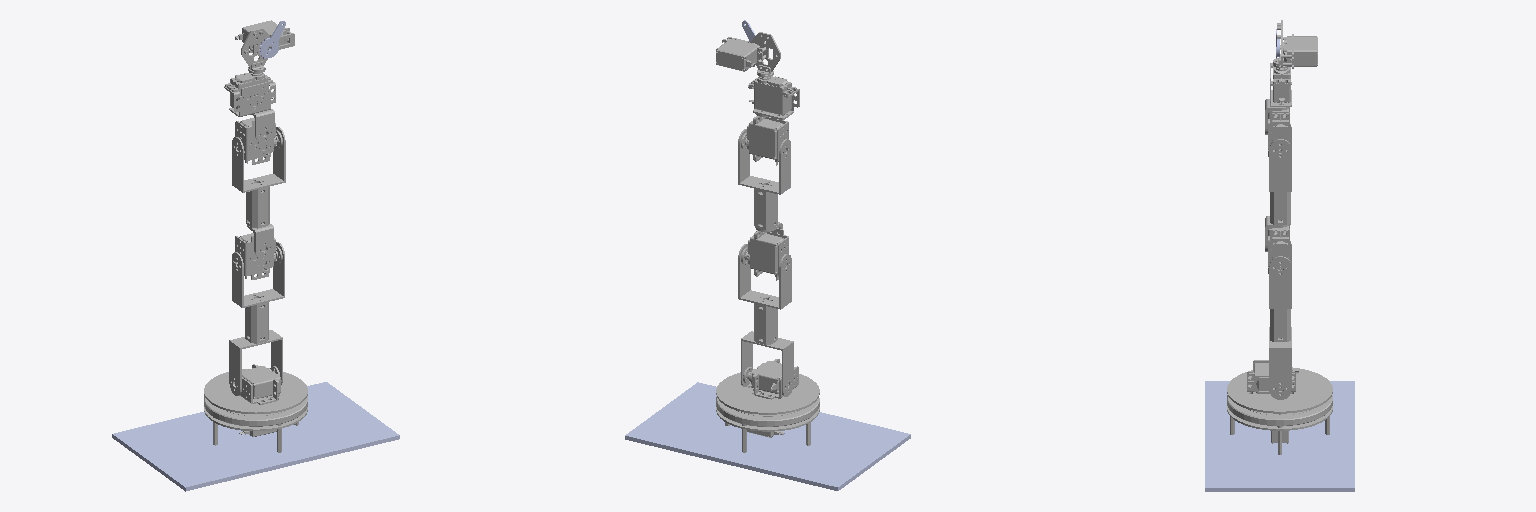
robot.urdf — Manipulator_tf:
<?xml version="1.0" encoding="utf-8"?>
<!-- This URDF was automatically created by SolidWorks to URDF Exporter! Originally created by [author] ([email redacted]) 
     Commit Version: 1.6.0-4-g7f85cfe  Build Version: 1.6.7995.38578
     For more information, please see http://wiki.ros.org/sw_urdf_exporter -->
<robot
  name="Manipulator_tf">
  <link
    name="base_link">
    <inertial>
      <origin
        xyz="-4.9546E-15 -0.0025 1.1984E-14"
        rpy="0 0 0" />
      <mass
        value="0.24083" />
      <inertia
        ixx="0.00057369"
        ixy="3.2157E-15"
        ixz="-1.0718E-15"
        iyy="0.0022033"
        iyz="-2.7475E-15"
        izz="0.0016306" />
    </inertial>
    <visual>
      <origin
        xyz="0 0 0"
        rpy="0 0 0" />
      <geometry>
        <mesh
          filename="package://Manipulator_tf/meshes/base_link.STL" />
      </geometry>
      <material
        name="">
        <color
          rgba="0.79216 0.81961 0.93333 1" />
      </material>
    </visual>
    <collision>
      <origin
        xyz="0 0 0"
        rpy="0 0 0" />
      <geometry>
        <mesh
          filename="package://Manipulator_tf/meshes/base_link.STL" />
      </geometry>
    </collision>
  </link>
  <link
    name="arm_base_link">
    <inertial>
      <origin
        xyz="0.127882844326927 0.21516198683833 0.243466478777363"
        rpy="0 0 0" />
      <mass
        value="0.0888805032863536" />
      <inertia
        ixx="7.78274568162348E-05"
        ixy="-4.51119521708741E-08"
        ixz="9.02366661508644E-13"
        iyy="0.000152787665848685"
        iyz="-6.09842163953188E-13"
        izz="8.05930936282739E-05" />
    </inertial>
    <visual>
      <origin
        xyz="0 0 0"
        rpy="0 0 0" />
      <geometry>
        <mesh
          filename="package://Manipulator_tf/meshes/arm_base_link.STL" />
      </geometry>
      <material
        name="">
        <color
          rgba="0.752941176470588 0.752941176470588 0.752941176470588 1" />
      </material>
    </visual>
    <collision>
      <origin
        xyz="0 0 0"
        rpy="0 0 0" />
      <geometry>
        <mesh
          filename="package://Manipulator_tf/meshes/arm_base_link.STL" />
      </geometry>
    </collision>
  </link>
  <joint
    name="arm_base_joint"
    type="fixed">
    <origin
      xyz="-0.12473 0.24347 -0.18335"
      rpy="1.5708 0 0" />
    <parent
      link="base_link" />
    <child
      link="arm_base_link" />
    <axis
      xyz="0 0 0" />
  </joint>
  <link
    name="arm_1_link">
    <inertial>
      <origin
        xyz="-0.00304007438045744 0.0196164335050423 -0.00291517432990257"
        rpy="0 0 0" />
      <mass
        value="0.102309676287535" />
      <inertia
        ixx="5.85277337608598E-05"
        ixy="-1.83034149134299E-07"
        ixz="-5.85534183280057E-07"
        iyy="0.000109918724976136"
        iyz="3.63049047266557E-07"
        izz="5.95682017970673E-05" />
    </inertial>
    <visual>
      <origin
        xyz="0 0 0"
        rpy="0 0 0" />
      <geometry>
        <mesh
          filename="package://Manipulator_tf/meshes/arm_1_link.STL" />
      </geometry>
      <material
        name="">
        <color
          rgba="0.752941176470588 0.752941176470588 0.752941176470588 1" />
      </material>
    </visual>
    <collision>
      <origin
        xyz="0 0 0"
        rpy="0 0 0" />
      <geometry>
        <mesh
          filename="package://Manipulator_tf/meshes/arm_1_link.STL" />
      </geometry>
    </collision>
  </link>
  <joint
    name="arm_1_joint"
    type="continuous">
    <origin
      xyz="0.12473 0.22085 0.24347"
      rpy="3.1416 1.1738 3.1416" />
    <parent
      link="arm_base_link" />
    <child
      link="arm_1_link" />
    <axis
      xyz="0 1 0" />
    <limit
      lower="-1.57"
      upper="1.57"
      effort="10"
      velocity="100" />
  </joint>
  <link
    name="arm_2_link">
    <inertial>
      <origin
        xyz="-0.00136241892661261 0.0759999999999952 0.00324974749212679"
        rpy="0 0 0" />
      <mass
        value="0.0731866074343535" />
      <inertia
        ixx="4.80073815600738E-05"
        ixy="-1.00851029729116E-08"
        ixz="8.91994561566128E-06"
        iyy="3.20760640864426E-05"
        iyz="2.40557713069729E-08"
        izz="3.04704178358834E-05" />
    </inertial>
    <visual>
      <origin
        xyz="0 0 0"
        rpy="0 0 0" />
      <geometry>
        <mesh
          filename="package://Manipulator_tf/meshes/arm_2_link.STL" />
      </geometry>
      <material
        name="">
        <color
          rgba="0.752941176470588 0.752941176470588 0.752941176470588 1" />
      </material>
    </visual>
    <collision>
      <origin
        xyz="0 0 0"
        rpy="0 0 0" />
      <geometry>
        <mesh
          filename="package://Manipulator_tf/meshes/arm_2_link.STL" />
      </geometry>
    </collision>
  </link>
  <joint
    name="arm_2_joint"
    type="continuous">
    <origin
      xyz="0.00057178 0.0325 0.00023971"
      rpy="0 0 0" />
    <parent
      link="arm_1_link" />
    <child
      link="arm_2_link" />
    <axis
      xyz="0.38664 0 -0.92223" />
    <limit
      lower="-1.57"
      upper="1.57"
      effort="10"
      velocity="100" />
  </joint>
  <link
    name="arm_3_link">
    <inertial>
      <origin
        xyz="-0.0025815322874481 0.0524015939543056 0.000939181171344017"
        rpy="0 0 0" />
      <mass
        value="0.103604281307373" />
      <inertia
        ixx="3.85881018738479E-05"
        ixy="-4.80398867358625E-07"
        ixz="5.05895931054358E-06"
        iyy="2.28862113904906E-05"
        iyz="-1.44453325725892E-07"
        izz="2.97794533690991E-05" />
    </inertial>
    <visual>
      <origin
        xyz="0 0 0"
        rpy="0 0 0" />
      <geometry>
        <mesh
          filename="package://Manipulator_tf/meshes/arm_3_link.STL" />
      </geometry>
      <material
        name="">
        <color
          rgba="0.752941176470588 0.752941176470588 0.752941176470588 1" />
      </material>
    </visual>
    <collision>
      <origin
        xyz="0 0 0"
        rpy="0 0 0" />
      <geometry>
        <mesh
          filename="package://Manipulator_tf/meshes/arm_3_link.STL" />
      </geometry>
    </collision>
  </link>
  <joint
    name="arm_3_joint"
    type="continuous">
    <origin
      xyz="0 0.152 0"
      rpy="0 0 0" />
    <parent
      link="arm_2_link" />
    <child
      link="arm_3_link" />
    <axis
      xyz="0.38664 0 -0.92223" />
    <limit
      lower="-1.57"
      upper="1.57"
      effort="10"
      velocity="100" />
  </joint>
  <link
    name="arm_4_link">
    <inertial>
      <origin
        xyz="-0.00101187414780247 0.0375011786310828 -0.00366708121412873"
        rpy="0 0 0" />
      <mass
        value="0.0995665365854079" />
      <inertia
        ixx="2.11129357002765E-05"
        ixy="-8.60510244360547E-08"
        ixz="2.61664416187348E-06"
        iyy="1.51148951315073E-05"
        iyz="-3.60758973291711E-08"
        izz="1.71059724068234E-05" />
    </inertial>
    <visual>
      <origin
        xyz="0 0 0"
        rpy="0 0 0" />
      <geometry>
        <mesh
          filename="package://Manipulator_tf/meshes/arm_4_link.STL" />
      </geometry>
      <material
        name="">
        <color
          rgba="0.752941176470588 0.752941176470588 0.752941176470588 1" />
      </material>
    </visual>
    <collision>
      <origin
        xyz="0 0 0"
        rpy="0 0 0" />
      <geometry>
        <mesh
          filename="package://Manipulator_tf/meshes/arm_4_link.STL" />
      </geometry>
    </collision>
  </link>
  <joint
    name="arm_4_joint"
    type="continuous">
    <origin
      xyz="0 0.1464 0"
      rpy="0 0 0" />
    <parent
      link="arm_3_link" />
    <child
      link="arm_4_link" />
    <axis
      xyz="0.38664 0 -0.92223" />
    <limit
      lower="-1.57"
      upper="1.57"
      effort="10"
      velocity="100" />
  </joint>
  <link
    name="arm_5_link">
    <inertial>
      <origin
        xyz="-0.00868940056135506 0.0276881873217658 -0.0253003257939571"
        rpy="0 0 0" />
      <mass
        value="0.0375612763479438" />
      <inertia
        ixx="6.51328878264193E-06"
        ixy="4.824257465463E-09"
        ixz="1.70111525571283E-06"
        iyy="6.43248404947121E-06"
        iyz="-9.59375877533994E-09"
        izz="2.9512265950098E-06" />
    </inertial>
    <visual>
      <origin
        xyz="0 0 0"
        rpy="0 0 0" />
      <geometry>
        <mesh
          filename="package://Manipulator_tf/meshes/arm_5_link.STL" />
      </geometry>
      <material
        name="">
        <color
          rgba="0.752941176470588 0.752941176470588 0.752941176470588 1" />
      </material>
    </visual>
    <collision>
      <origin
        xyz="0 0 0"
        rpy="0 0 0" />
      <geometry>
        <mesh
          filename="package://Manipulator_tf/meshes/arm_5_link.STL" />
      </geometry>
    </collision>
  </link>
  <joint
    name="arm_5_joint"
    type="continuous">
    <origin
      xyz="0.00056091 0.09115 0.0028104"
      rpy="3.1416 0 3.1416" />
    <parent
      link="arm_4_link" />
    <child
      link="arm_5_link" />
    <axis
      xyz="0 1 0" />
    <limit
      lower="-1.57"
      upper="1.57"
      effort="10"
      velocity="100" />
  </joint>
  <link
    name="gripper_1_link">
    <inertial>
      <origin
        xyz="0.000163480467086502 -0.00403983489131327 0.00336463442646602"
        rpy="0 0 0" />
      <mass
        value="0.00233893532260202" />
      <inertia
        ixx="2.44085104510321E-07"
        ixy="-4.91339632043238E-09"
        ixz="-5.73121224919762E-19"
        iyy="7.71995240694164E-08"
        iyz="2.04123577772977E-18"
        izz="3.18397565042681E-07" />
    </inertial>
    <visual>
      <origin
        xyz="0 0 0"
        rpy="0 0 0" />
      <geometry>
        <mesh
          filename="package://Manipulator_tf/meshes/gripper_1_link.STL" />
      </geometry>
      <material
        name="">
        <color
          rgba="0.792156862745098 0.819607843137255 0.933333333333333 1" />
      </material>
    </visual>
    <collision>
      <origin
        xyz="0 0 0"
        rpy="0 0 0" />
      <geometry>
        <mesh
          filename="package://Manipulator_tf/meshes/gripper_1_link.STL" />
      </geometry>
    </collision>
  </link>
  <joint
    name="gripper_1_joint"
    type="continuous">
    <origin
      xyz="0.0068104 0.0295 -0.011783"
      rpy="0.90777 -0.89161 2.1168" />
    <parent
      link="arm_5_link" />
    <child
      link="gripper_1_link" />
    <axis
      xyz="0 0 1" />
    <limit
      lower="-1.57"
      upper="1.57"
      effort="10"
      velocity="100" />
  </joint>
</robot>

--- What the picture shows (computed from the rendered views, not written in the file) ---
Views: 3 orthographic renders of the robot side by side, from view 1: azimuth 30°, elevation 25°; view 2: azimuth 150°, elevation 25°; view 3: azimuth 270°, elevation 25°.
Model Manipulator_tf with 8 links and 7 joints (6 continuous, 1 fixed), rooted at base_link, posed every joint at zero.
Visible links, largest first — view 1: base_link, arm_3_link, arm_2_link, arm_1_link, arm_4_link, arm_base_link, arm_5_link; view 2: base_link, arm_3_link, arm_2_link, arm_1_link, arm_4_link, arm_base_link, arm_5_link; view 3: base_link, arm_1_link, arm_2_link, arm_3_link, arm_base_link, arm_4_link, arm_5_link.
Link boxes in pixels (left/top/right/bottom): base_link: left=112, top=382, right=399, bottom=491; arm_3_link: left=232, top=127, right=285, bottom=279; arm_2_link: left=229, top=242, right=284, bottom=395; arm_1_link: left=204, top=364, right=307, bottom=415; arm_4_link: left=224, top=72, right=276, bottom=164; arm_base_link: left=204, top=396, right=307, bottom=452; arm_5_link: left=235, top=20, right=294, bottom=73; base_link: left=625, top=382, right=910, bottom=490; arm_3_link: left=738, top=129, right=790, bottom=280; arm_2_link: left=738, top=244, right=793, bottom=396; arm_1_link: left=716, top=359, right=819, bottom=416; arm_4_link: left=747, top=76, right=799, bottom=165; arm_base_link: left=716, top=397, right=819, bottom=452; arm_5_link: left=716, top=32, right=780, bottom=76; base_link: left=1205, top=381, right=1354, bottom=491; arm_1_link: left=1227, top=360, right=1332, bottom=414; arm_2_link: left=1269, top=241, right=1291, bottom=399; arm_3_link: left=1265, top=124, right=1291, bottom=273; arm_base_link: left=1227, top=395, right=1332, bottom=454; arm_4_link: left=1265, top=63, right=1291, bottom=156; arm_5_link: left=1273, top=20, right=1317, bottom=68.
Size in the robot's own frame: 0.285 by 0.169 by 0.5246 metres.
Meshes: 8 distinct files referenced, 8 mesh visuals loaded (8 binary STL).